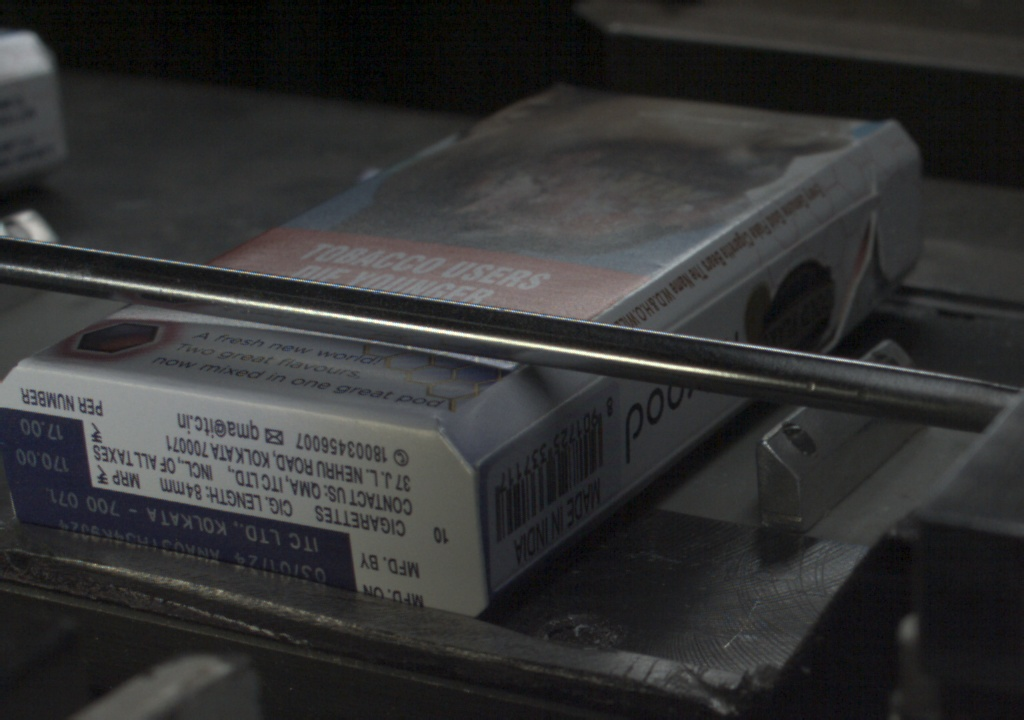g_bottom: (1, 361, 488, 619)
g_label: (9, 485, 354, 589)
g_lmiter: (668, 260, 772, 331), (772, 192, 867, 260), (475, 418, 540, 468), (540, 373, 601, 421)
price: (7, 413, 88, 482)
